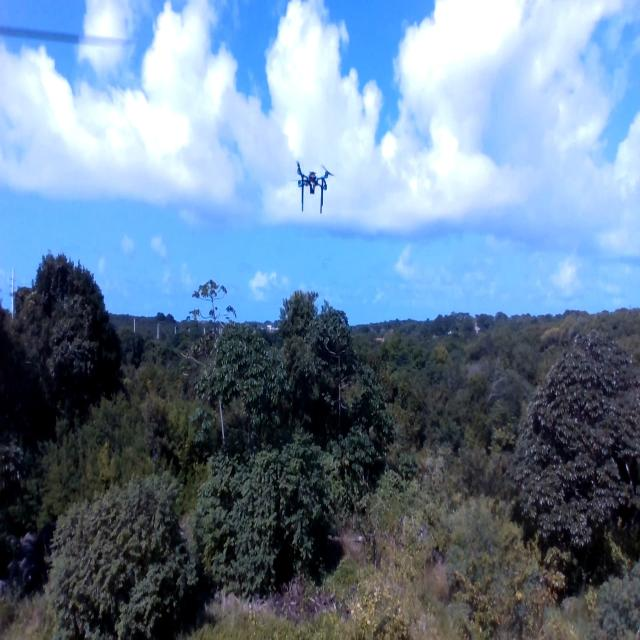-uav-: (289, 147, 343, 234)
